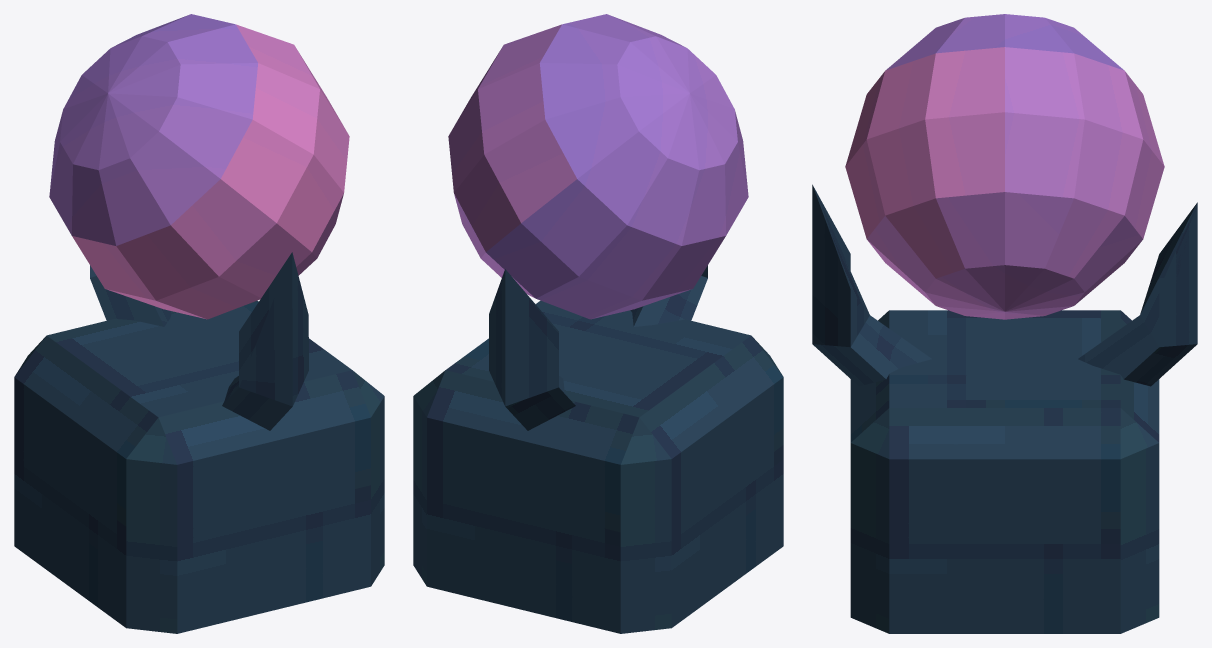
File: beacon.gltf
3 renders of one model, left to right at view 1: azimuth 30°, elevation 25°; view 2: azimuth 150°, elevation 25°; view 3: azimuth 270°, elevation 25°, orthographic. The views are drawn at different scales.
Visible parts, largest first — view 1: Base, sphere; view 2: Base, sphere; view 3: Base, sphere.
Part boxes in pixels (x1,y1,x2,y2): Base: (14, 252, 384, 633); sphere: (49, 14, 349, 319); Base: (413, 265, 783, 633); sphere: (448, 14, 748, 319); Base: (812, 184, 1197, 633); sphere: (845, 14, 1164, 319).
Bounding box in the file's own units: 1 × 1.93 × 1.25.
1 material, 1 textured.
